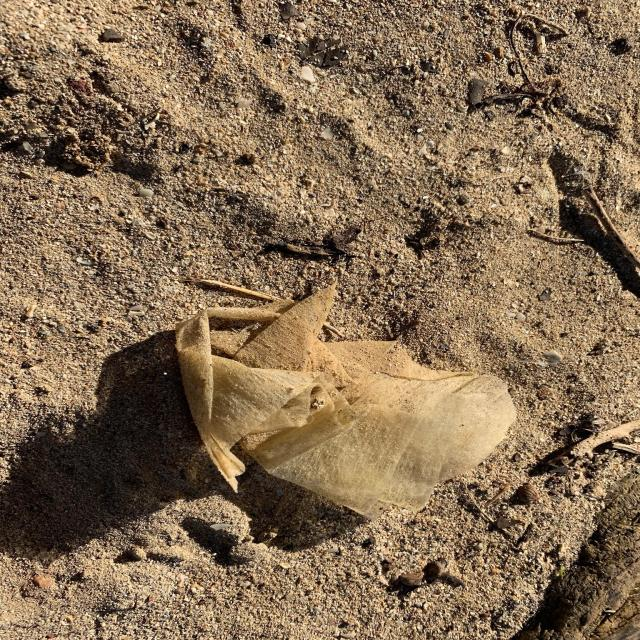litter: (173, 282, 522, 520)
